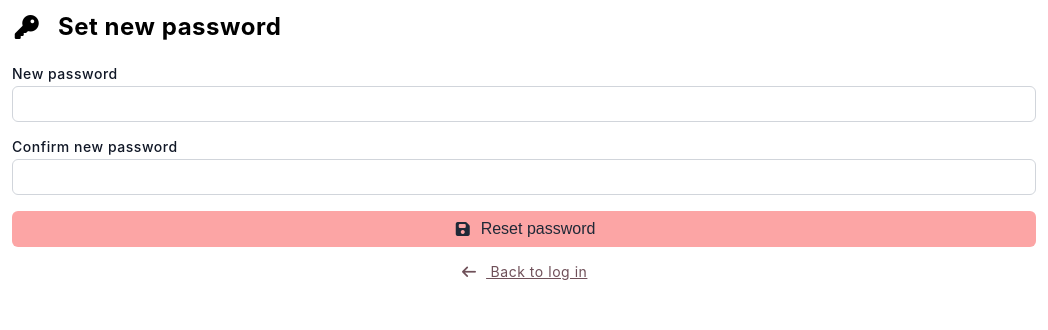
Test case: PasswordResetConfirmView › blocks submission when the passwords do not match
Type "new-secret" into the password field labelled "New password" at (524, 104), box [12, 86, 1036, 122]
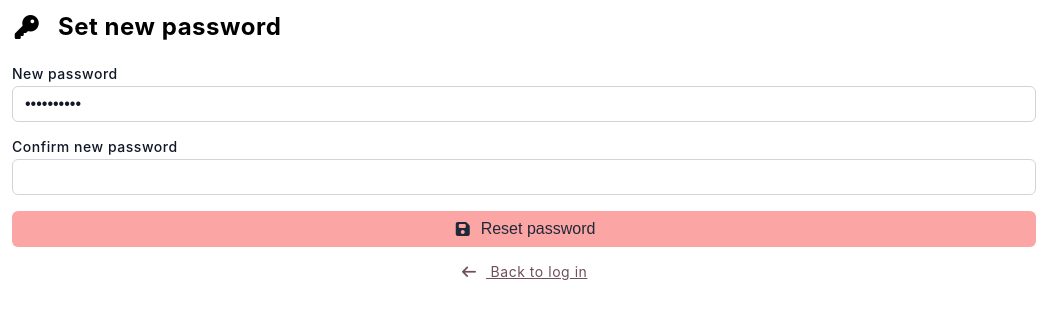
Type "other" into the password field labelled "Confirm new password" at (524, 177), box [12, 159, 1036, 195]
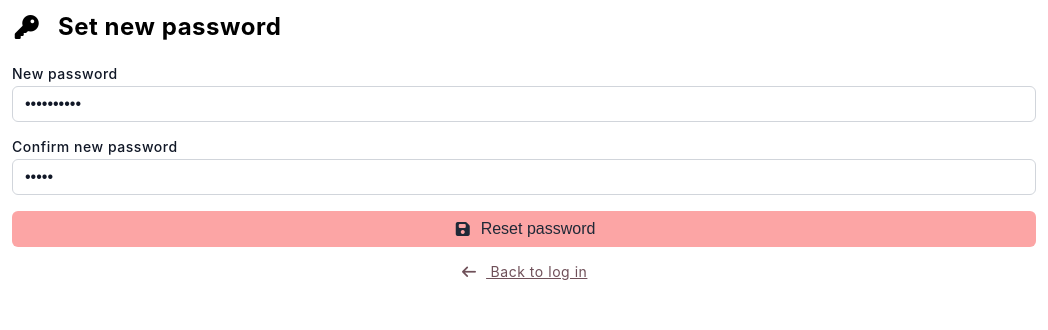
Submit the form
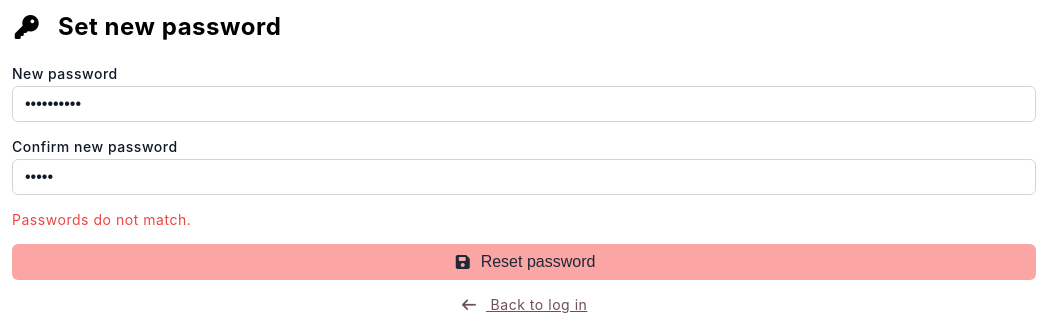
Now the form shows "Passwords do not match.", box [12, 211, 191, 228]
